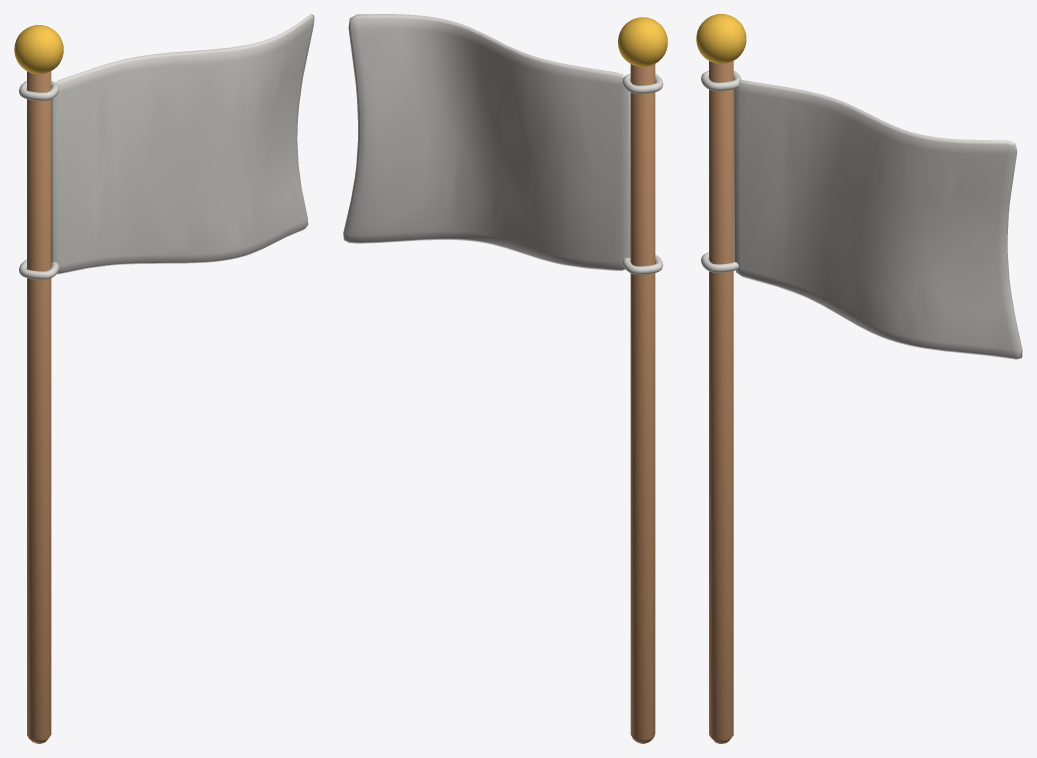
The model's file is reaccion_bandera.glb.
3 views of the same model, side by side, from view 1: azimuth 30°, elevation 25°; view 2: azimuth 150°, elevation 25°; view 3: azimuth 330°, elevation 25° (orthographic).
Parts seen in each view (by area): view 1: tela bandera, palito bandera, bolita bandera; view 2: tela bandera, palito bandera, bolita bandera; view 3: tela bandera, palito bandera, bolita bandera.
Boxes of the visible parts, x1,y1,x2,y2 form: tela bandera: [51, 14, 314, 274]; palito bandera: [27, 71, 51, 743]; bolita bandera: [14, 25, 63, 74]; tela bandera: [343, 14, 630, 270]; palito bandera: [630, 64, 655, 743]; bolita bandera: [618, 17, 667, 66]; tela bandera: [733, 80, 1022, 359]; palito bandera: [709, 61, 733, 743]; bolita bandera: [696, 14, 746, 63].
Bounding box in the file's own units: 0.5518 × 1.24 × 0.0854.
